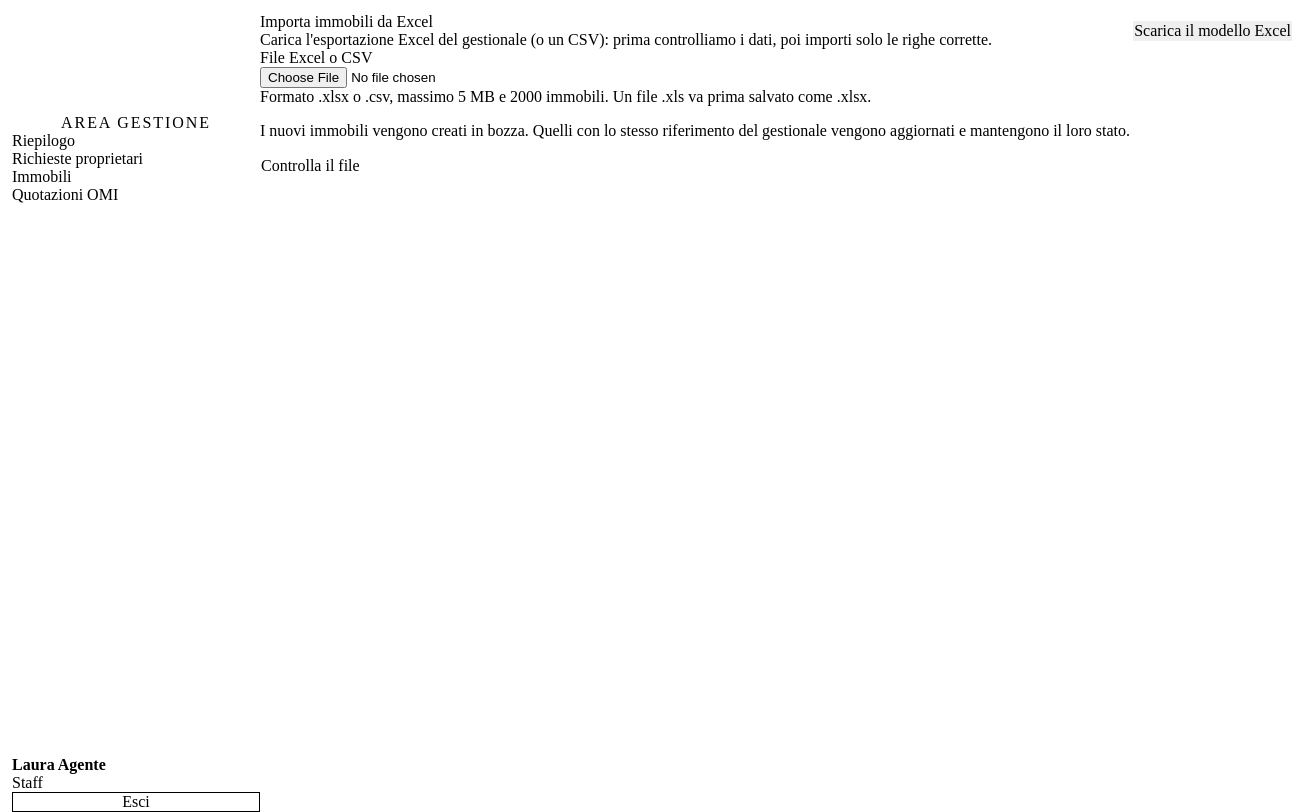
Excel import › does not offer the import when no row is valid
Earlier steps of the test are not shown.
Click the button "Controlla il file" at (310, 166), box [260,156,361,176]
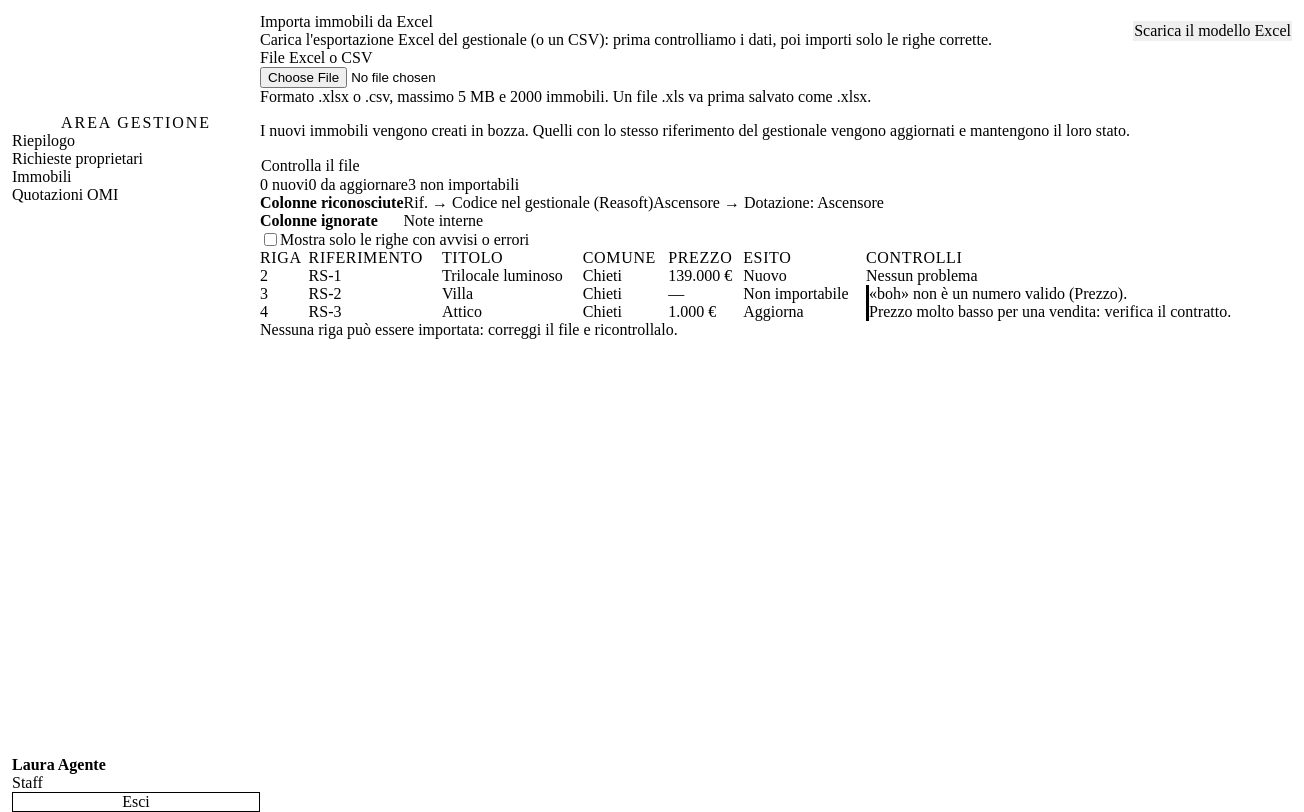
Now the text "Nessuna riga può essere importata: correggi il file e ricontrollalo." is shown, box [260,321,678,339]
